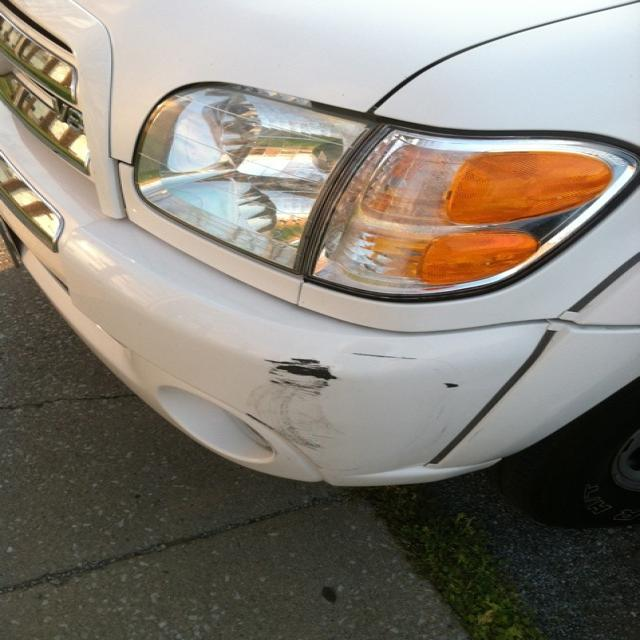scratch: (240, 356, 340, 452), (349, 351, 426, 361), (443, 381, 461, 391)
